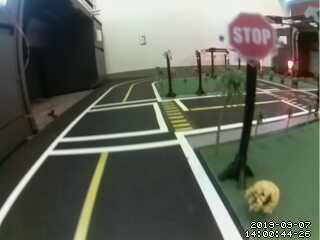Stop_Sign: (227, 7, 284, 67)
